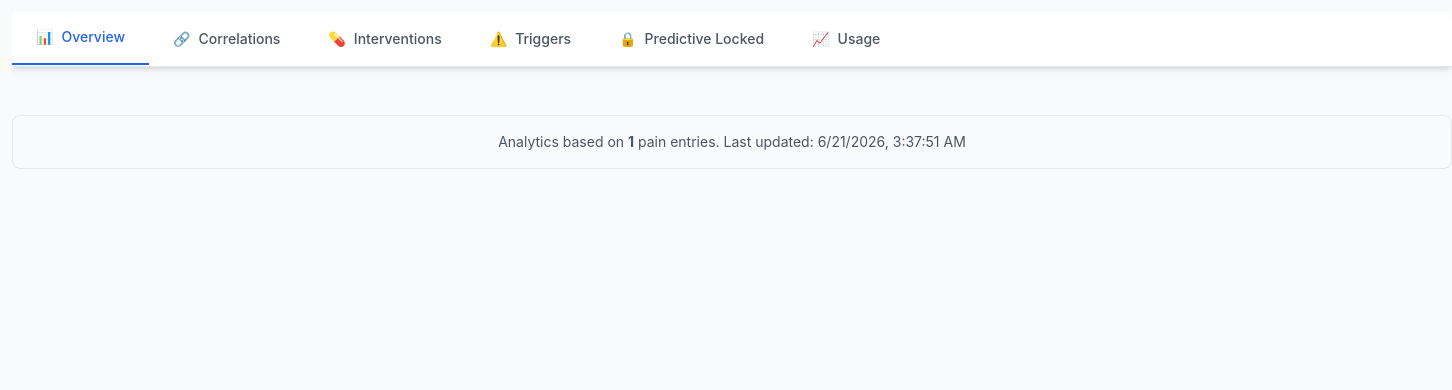
Test: tier restriction UI analytics › shows predictive analytics as locked for Basic users
This screenshot has width=1452, height=390.
Click the tab "🔒 Predictive Locked": [692, 39] box [595,12,788,66]
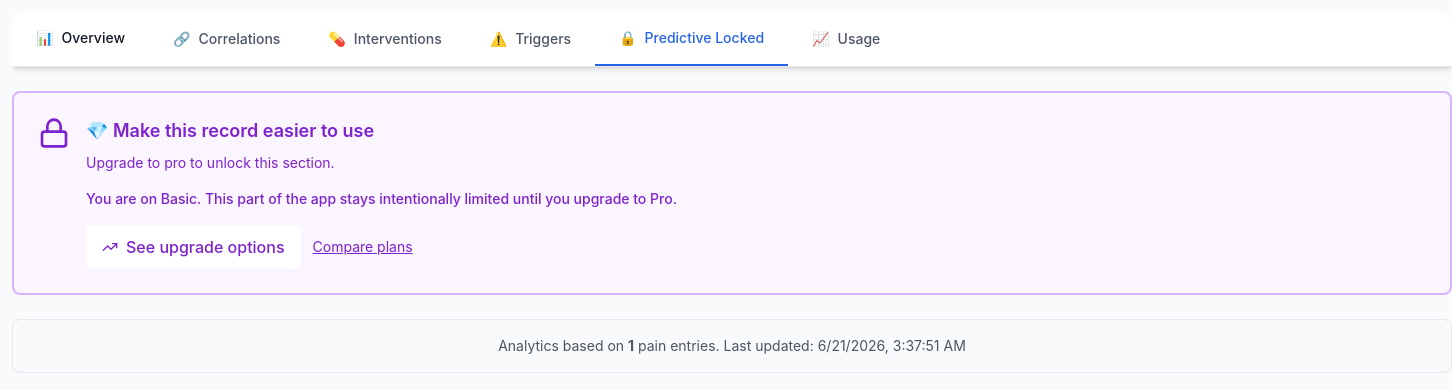
Check: the text "You are on Basic. This part of the app stays intentionally limited" is shown, box [86,190,677,207]
